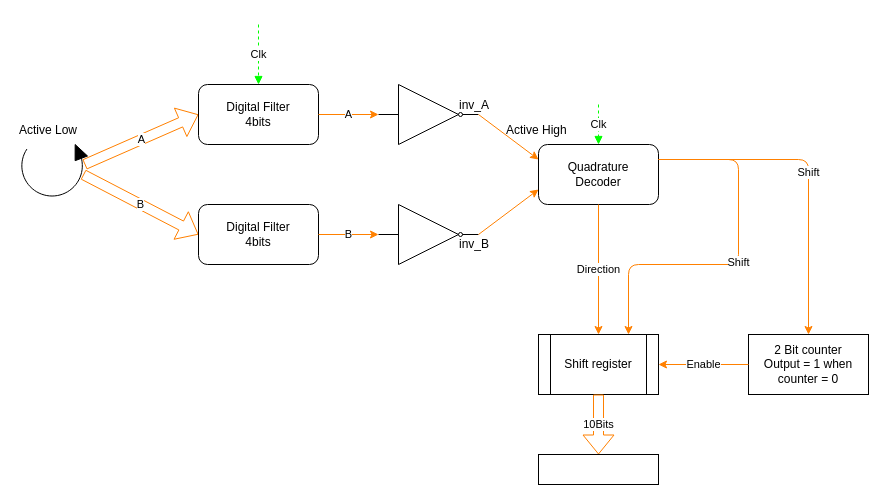
This 886x502 diagram has some shape labels left out. Each missing label, with the centre of its shape:
LED Bargraph: (x=598, y=469)
Rotary Encoder: (x=53, y=171)
